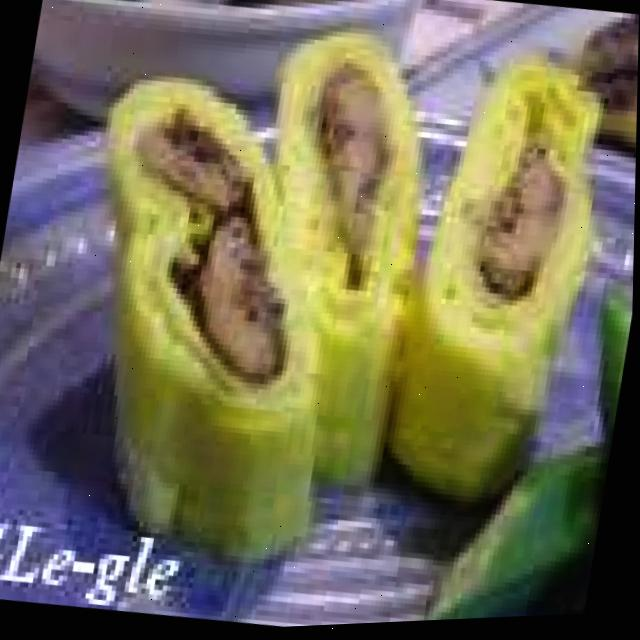鸡蛋料理: (30, 0, 619, 597)
